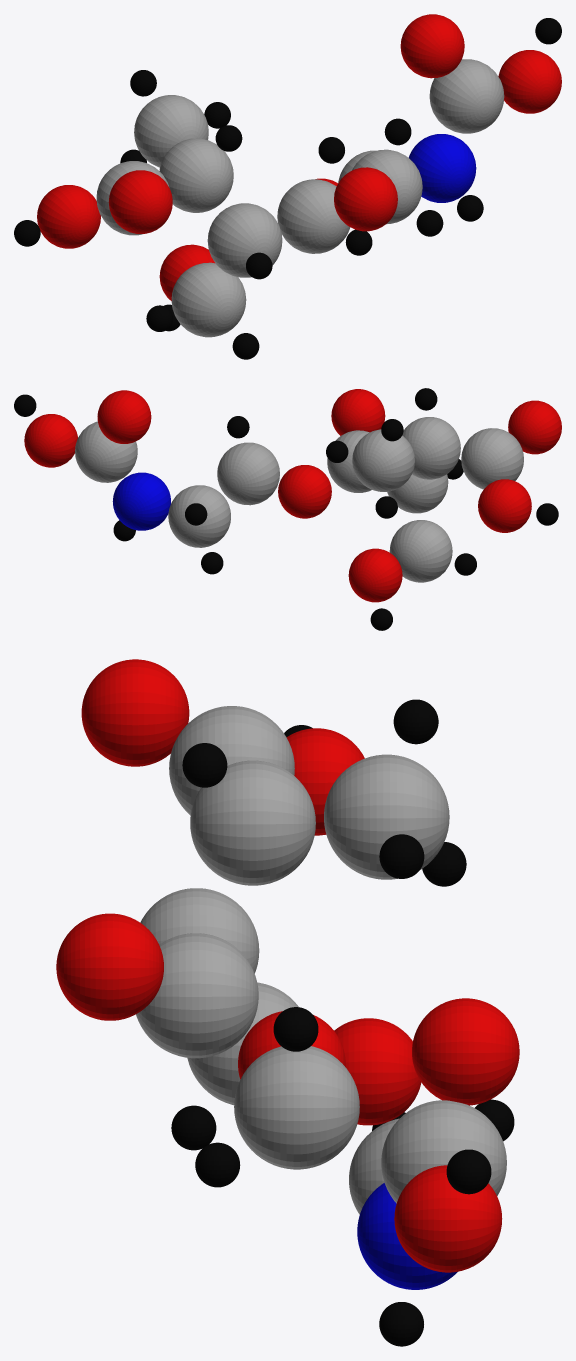
File: Pantothenic Acid (Vitamin B5).glb
The picture shows the model from 3 angles, top to bottom: view 1: azimuth 30°, elevation 25°; view 2: azimuth 150°, elevation 25°; view 3: azimuth 270°, elevation 25°; orthographic projection. The views are drawn at different scales.
Parts seen in each view (by area): view 1: world; view 2: world; view 3: world.
Boxes of the visible parts, x1,y1,x2,y2 form: world: [14, 14, 561, 359]; world: [14, 388, 561, 630]; world: [56, 659, 519, 1346].
Size of the model in its own units: 12.85 by 5.35 by 5.16.
